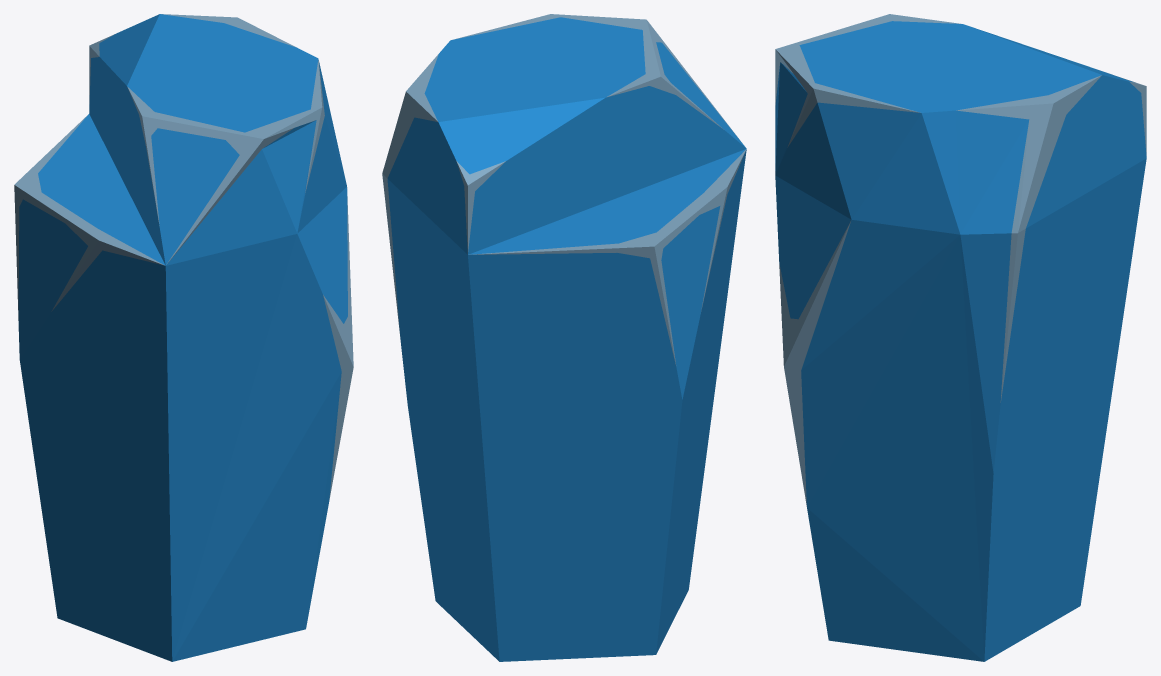
Rendered from Stone_Blue_A_01.FBX.
3 views of the same model, side by side, from view 1: azimuth 30°, elevation 25°; view 2: azimuth 150°, elevation 25°; view 3: azimuth 270°, elevation 25° (orthographic). The views are drawn at different scales.
Visible parts, largest first — view 1: Stone_Blue_A_01; view 2: Stone_Blue_A_01; view 3: Stone_Blue_A_01.
Part boxes in pixels (bbox=[...]): Stone_Blue_A_01: bbox=[14, 14, 353, 661]; Stone_Blue_A_01: bbox=[382, 14, 746, 661]; Stone_Blue_A_01: bbox=[775, 14, 1146, 661].
Size of the model in its own units: 0.4873 by 0.8497 by 0.5138.
